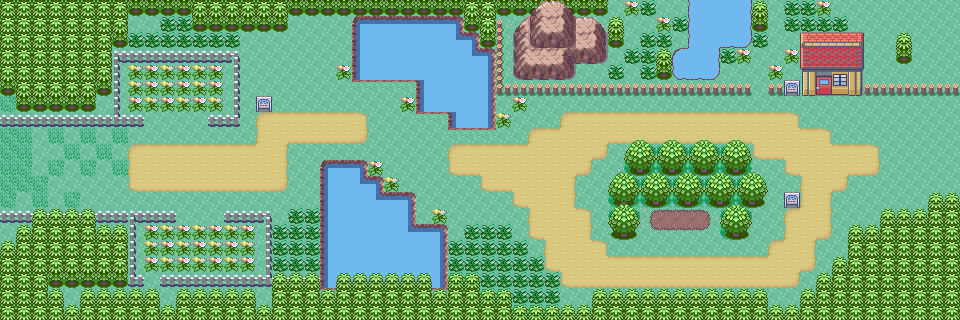normal_house: (798, 27, 867, 100)
